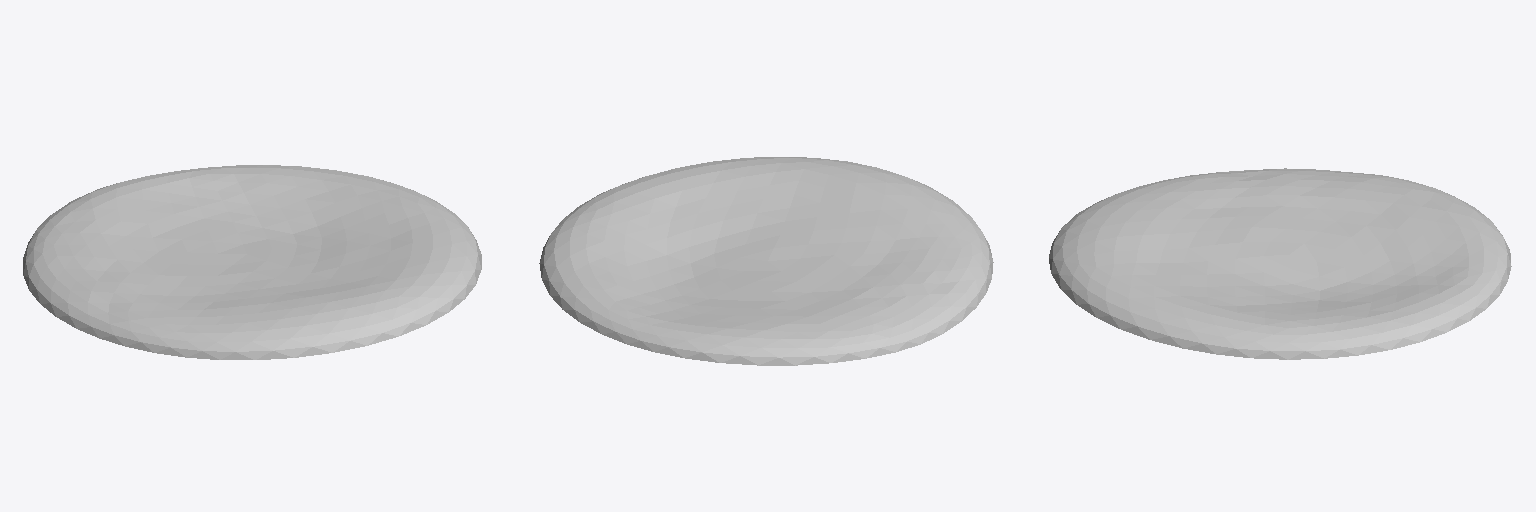
The model's file is crappy_terrain.obj.
3 renders of one model, left to right at view 1: azimuth 30°, elevation 25°; view 2: azimuth 150°, elevation 25°; view 3: azimuth 270°, elevation 25°, orthographic.
Visible parts, largest first — view 1: Icosphere; view 2: Icosphere; view 3: Icosphere.
Part boxes in pixels (x1,y1,x2,y2): Icosphere: (23,165,481,359); Icosphere: (539,157,993,365); Icosphere: (1049,168,1511,359).
Size of the model in its own units: 1739 by 130 by 1771.